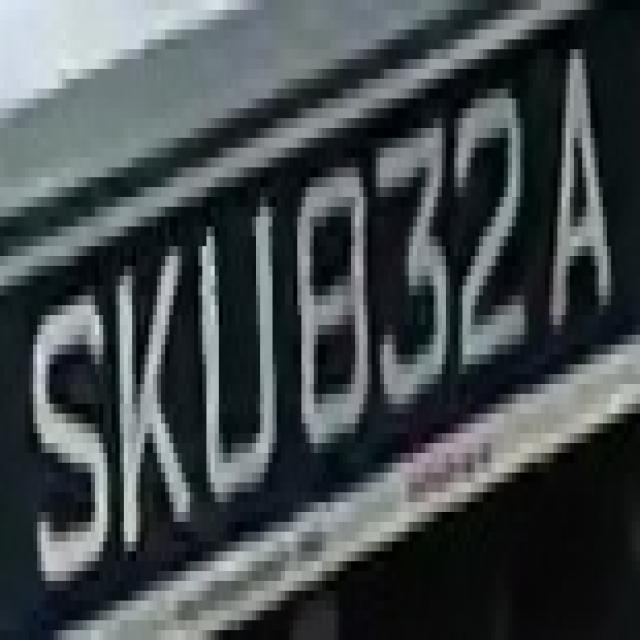2: (442, 89, 524, 384)
3: (359, 118, 454, 414)
8: (289, 138, 372, 472)
A: (524, 39, 620, 354)
K: (108, 236, 198, 581)
S: (29, 256, 111, 610)
U: (178, 177, 280, 522)
